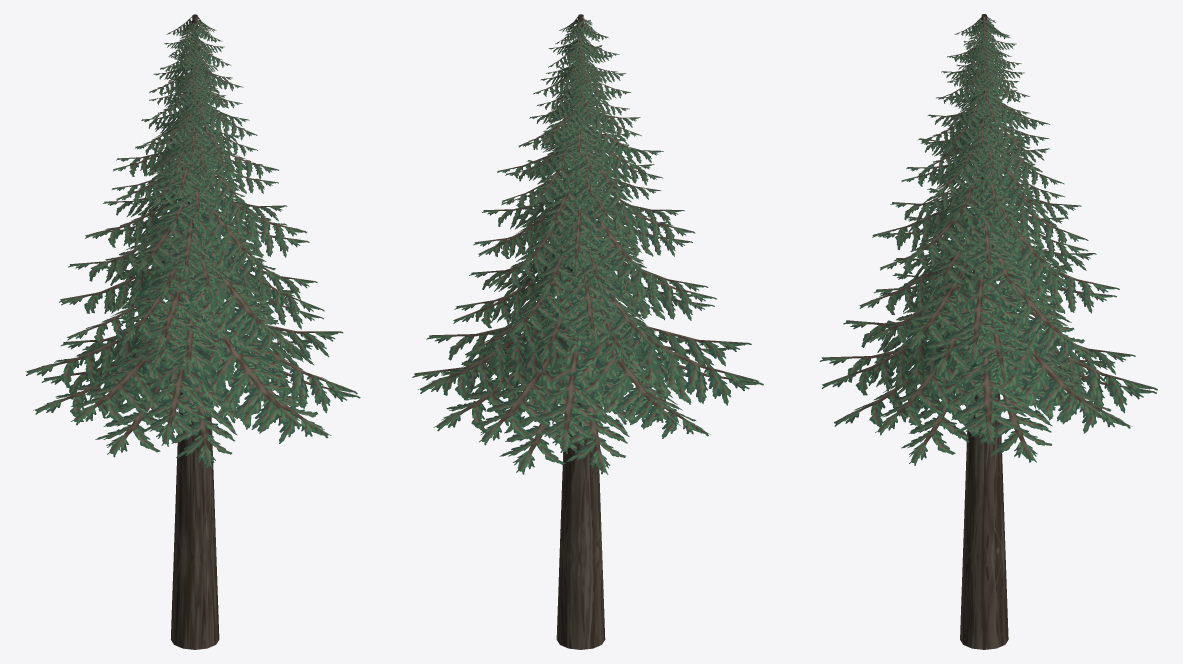
File: Pinetree.obj
The picture shows the model from 3 angles, left to right: view 1: azimuth 30°, elevation 25°; view 2: azimuth 150°, elevation 25°; view 3: azimuth 270°, elevation 25°; orthographic projection.
Visible parts, largest first — view 1: Pine_Tree; view 2: Pine_Tree; view 3: Pine_Tree.
Part boxes in pixels (x1=…): Pine_Tree: x1=25, y1=14, x2=360, y2=649; Pine_Tree: x1=412, y1=14, x2=763, y2=649; Pine_Tree: x1=819, y1=14, x2=1157, y2=649.
Bounding box in the file's own units: 9.25 × 16.9 × 8.97.
